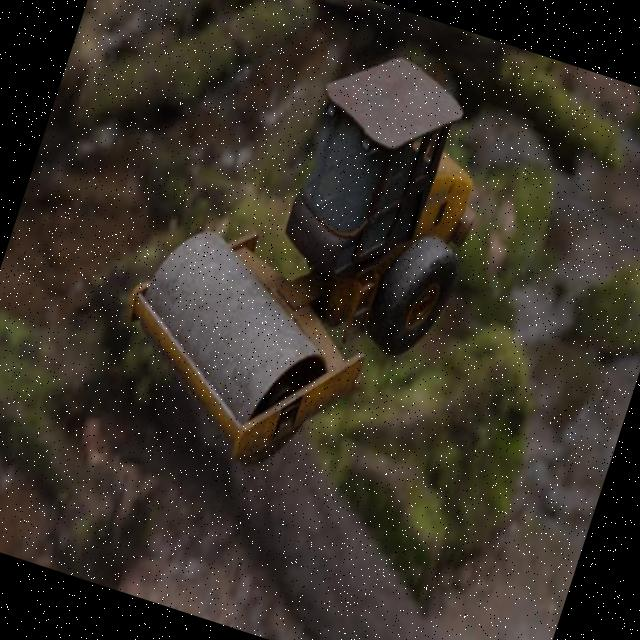Roller: (91, 1, 517, 510)
